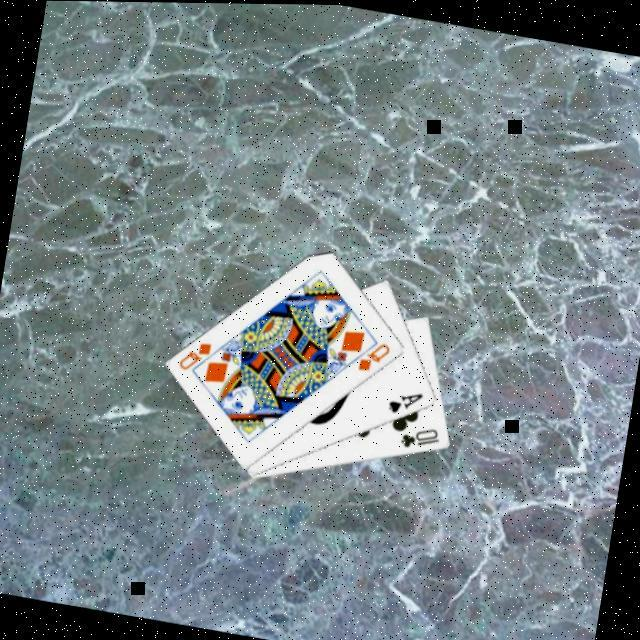10C: (398, 420, 446, 457)
AS: (387, 384, 429, 420)
QD: (177, 336, 217, 377), (356, 336, 395, 377)
